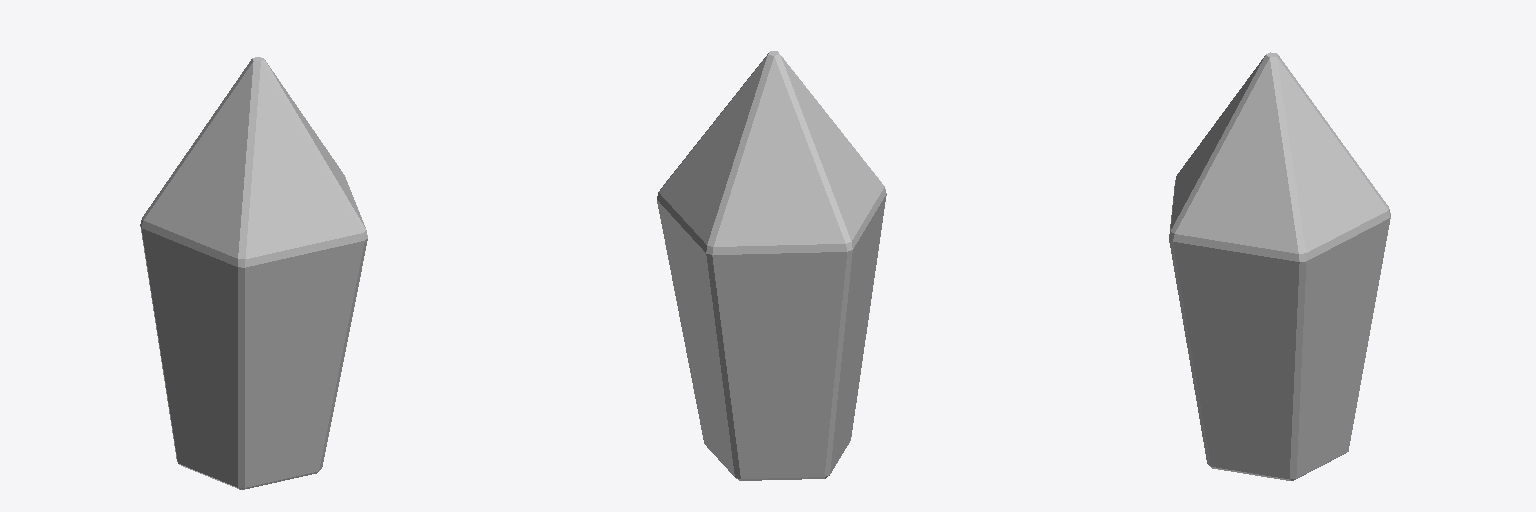
File: CrystalSingle.obj
3 views of the same model, side by side, from view 1: azimuth 30°, elevation 25°; view 2: azimuth 150°, elevation 25°; view 3: azimuth 270°, elevation 25° (orthographic).
Visible parts, largest first — view 1: CrystalSingle; view 2: CrystalSingle; view 3: CrystalSingle.
Part boxes in pixels (x1,y1,x2,y2): CrystalSingle: (140,57,367,489); CrystalSingle: (657,51,886,480); CrystalSingle: (1169,52,1390,480).
Size of the model in its own units: 0.7442 by 1.43 by 0.7179.